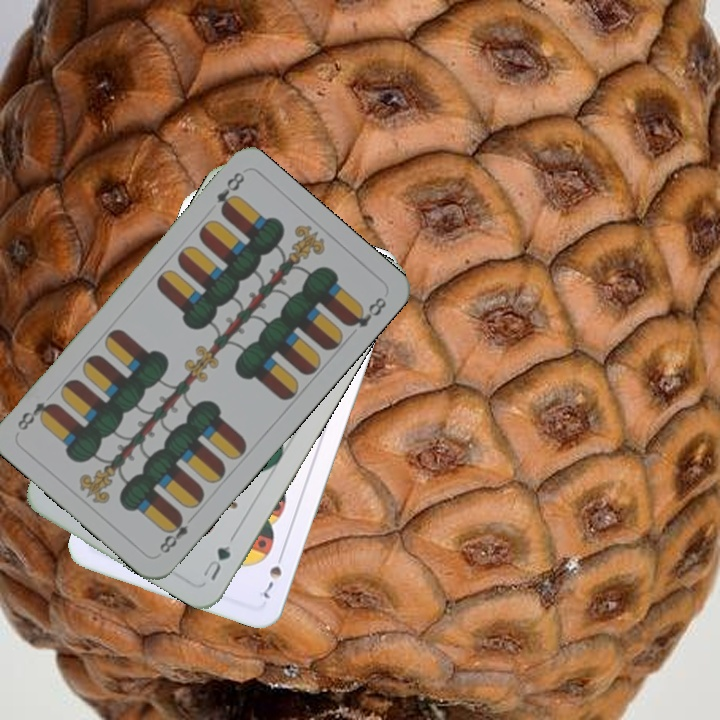E8: (155, 510, 198, 556), (212, 168, 248, 217)
GU: (199, 541, 234, 583)
S7: (259, 547, 287, 601)
